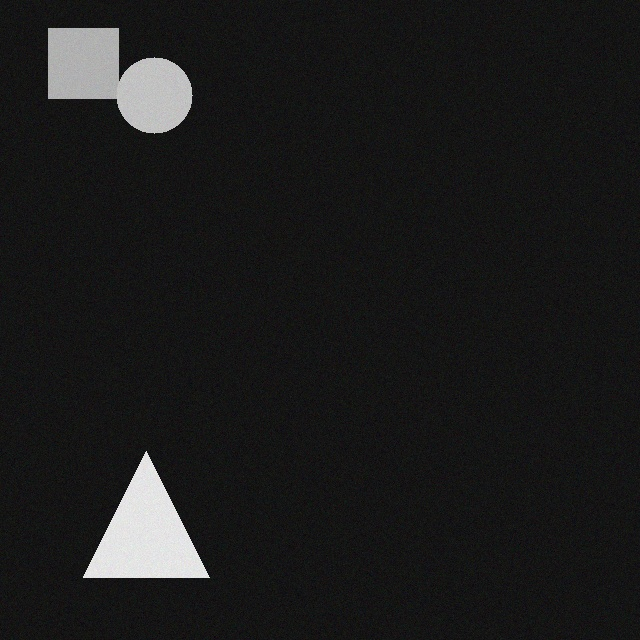circle: (130, 63, 206, 139)
square: (62, 34, 132, 104)
triangle: (97, 457, 223, 583)
